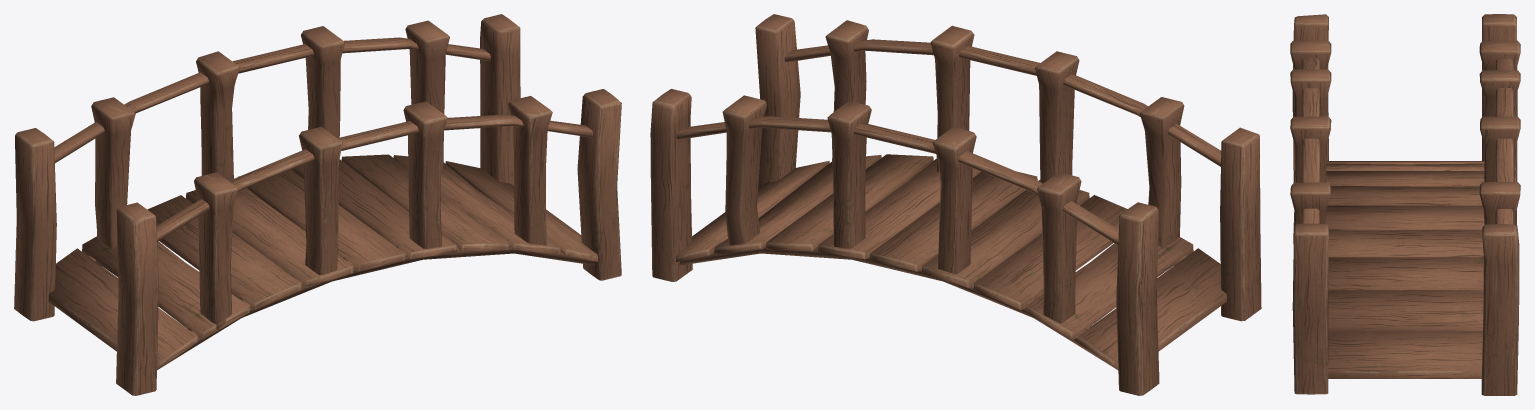
File: stylized_bridge_low_poly.glb
3 renders of one model, left to right at view 1: azimuth 30°, elevation 25°; view 2: azimuth 150°, elevation 25°; view 3: azimuth 270°, elevation 25°, orthographic. The views are drawn at different scales.
Parts seen in each view (by area): view 1: Bridge_low; view 2: Bridge_low; view 3: Bridge_low.
Part boxes in pixels (bbox=[...]): Bridge_low: bbox=[14, 14, 621, 395]; Bridge_low: bbox=[650, 14, 1261, 395]; Bridge_low: bbox=[1290, 14, 1520, 395].
Size of the model in its own units: 3.83 by 1.53 by 1.68.
1 material, 1 textured.
